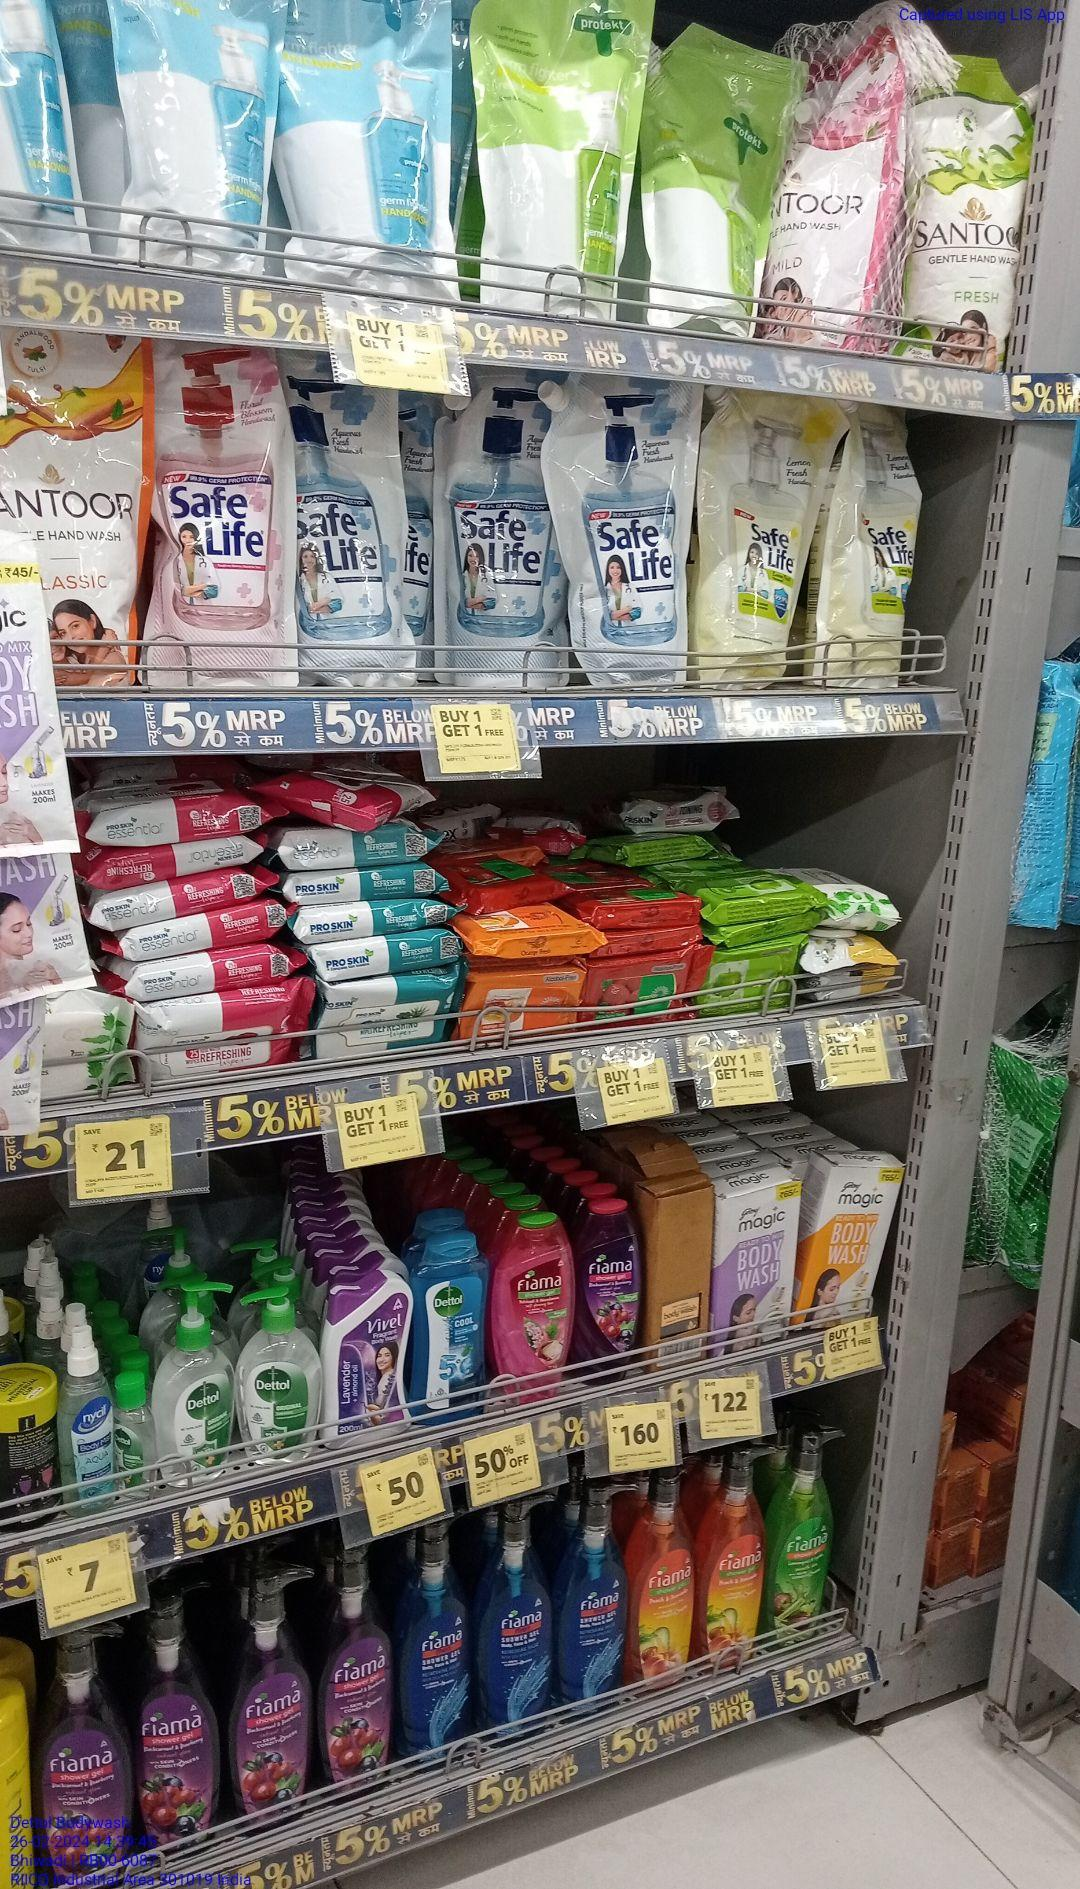Dettol_Bodywash_Cool: (410, 1233, 488, 1399)
Fiama_Shower_Gel_Patchouli_and_Macadamia_250ML: (491, 1210, 572, 1367)
